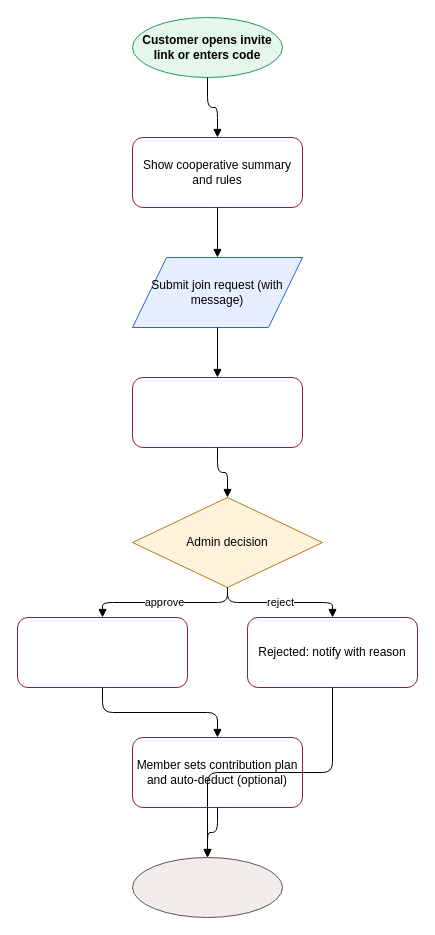
The diagram is 435 pixels wide and 935 high, and some of its shapes have lost their labels. Here are the shapes that lost their labels. From the top down, the centre of each, then its label:
At [217,412]: "Admins notified".
At [102,652]: "Approved: create member record and number; notify".
At [207,887]: "Member active".
